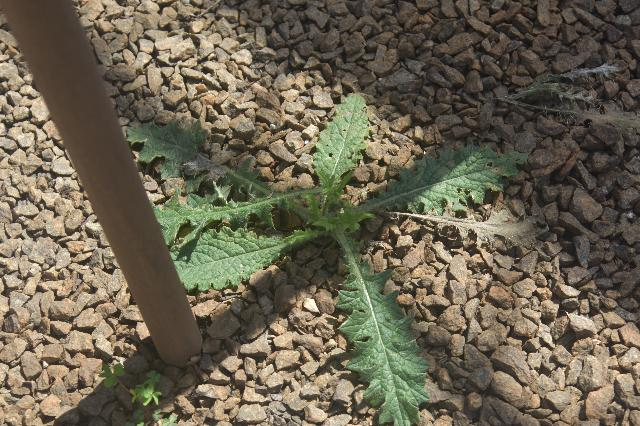MalezaMontesDelPlata: (126, 92, 537, 426), (99, 358, 170, 426)
